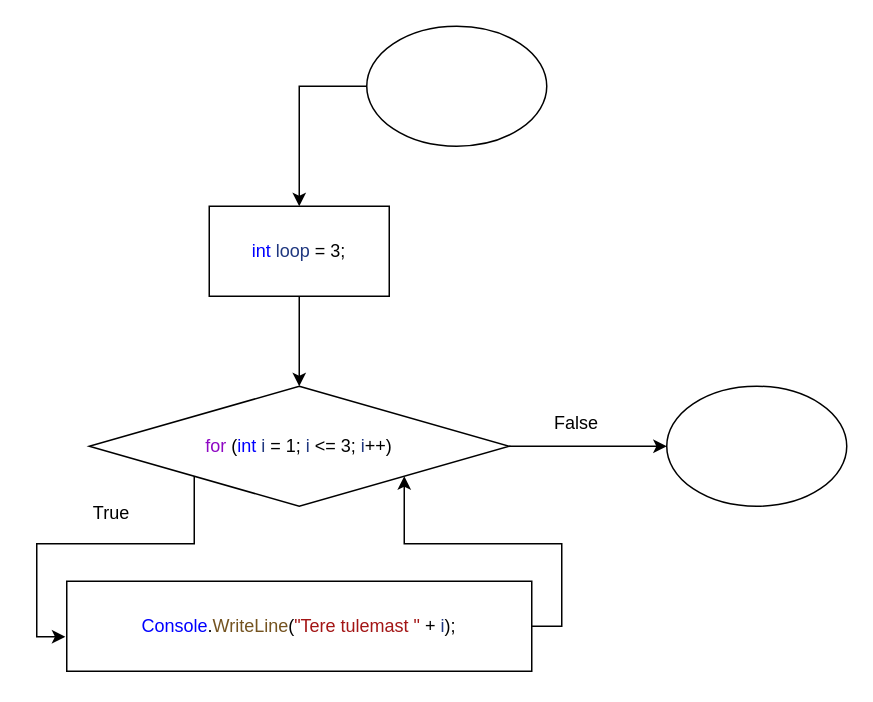
Some shapes in this 873 by 702 pixel diagram are drawn without their labels. The centre of each missing label's shape, as x and y in pixels:
END: [756,445]
START: [456,85]
